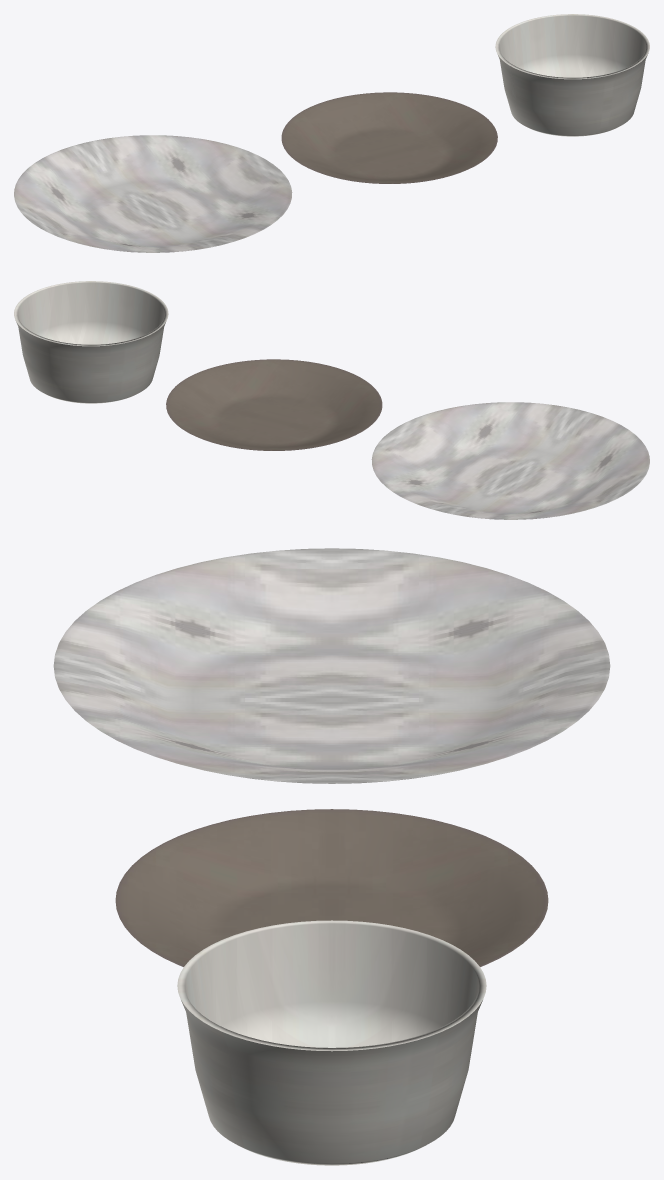
The model's file is MAR-01.glb.
3 renders of one model, top to bottom at view 1: azimuth 30°, elevation 25°; view 2: azimuth 150°, elevation 25°; view 3: azimuth 270°, elevation 25°, orthographic. The views are drawn at different scales.
Bounding box in the file's own units: 0.68 × 0.07 × 0.27.
6 materials, 6 textured.
